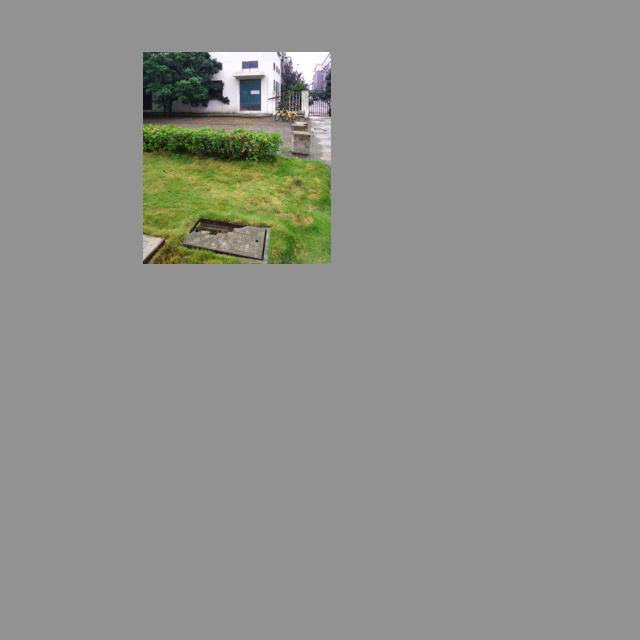broke: (181, 217, 270, 264)
